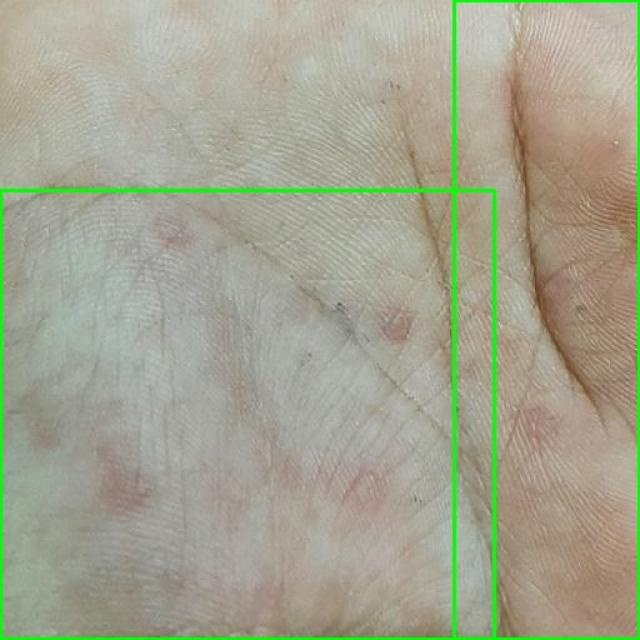Contact Dermatitis: (0, 190, 494, 639), (454, 0, 639, 639)
